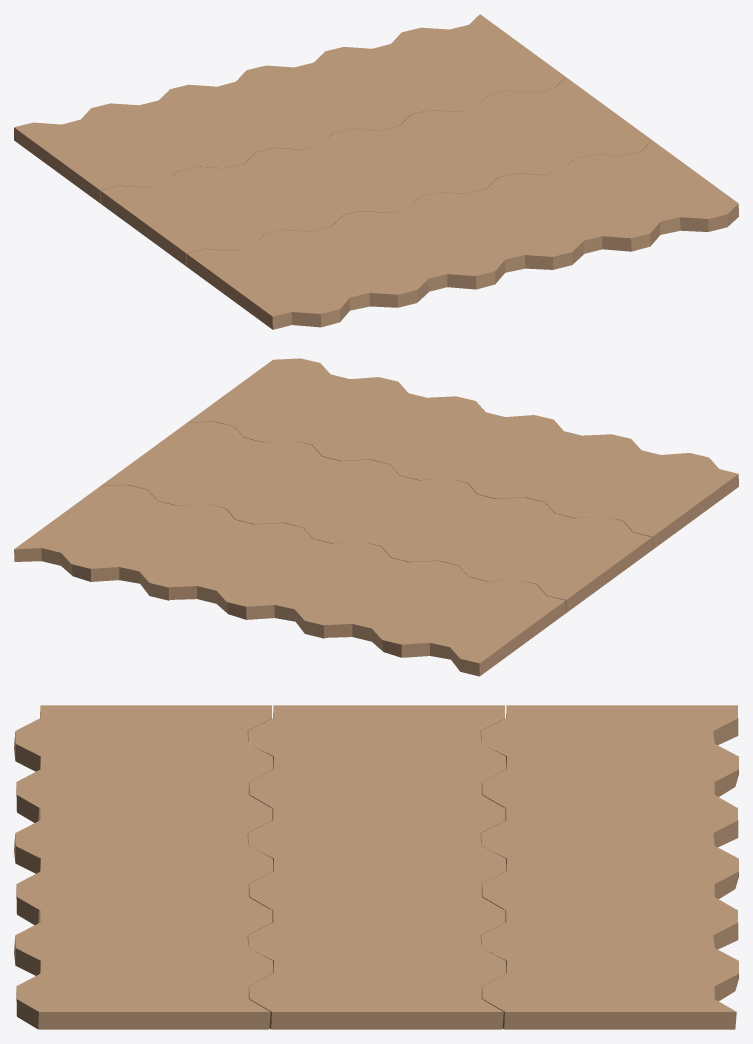
The model's file is env_Chão.fbx.
3 views of the same model, one above another, from view 1: azimuth 30°, elevation 25°; view 2: azimuth 150°, elevation 25°; view 3: azimuth 270°, elevation 25° (orthographic). The views are drawn at different scales.
Visible parts, largest first — view 1: env_Chão; view 2: env_Chão; view 3: env_Chão.
Part boxes in pixels (x1,y1,x2,y2): env_Chão: (14,14,738,329); env_Chão: (14,358,738,676); env_Chão: (14,705,738,1029).
Bounding box in the file's own units: 1000 × 26.91 × 1000.
